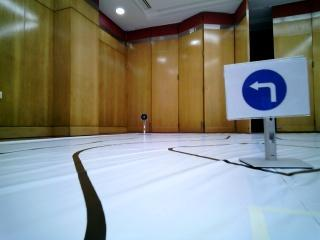left: (223, 64, 309, 109)
